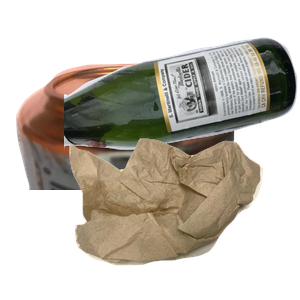glass: (64, 35, 300, 181)
metal: (13, 61, 240, 241)
plastic: (88, 182, 242, 300)
trash: (67, 136, 300, 300)
